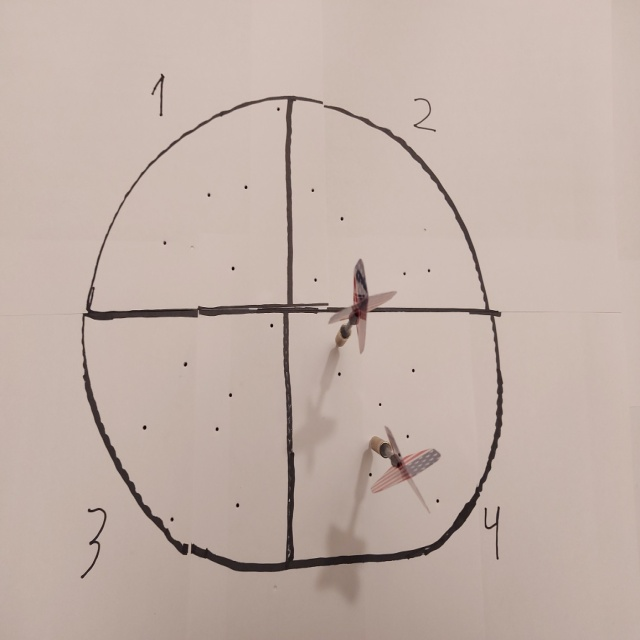Dart: (323, 256, 399, 363), (365, 423, 446, 520)
